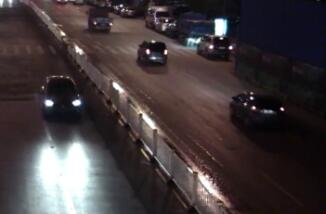car: (228, 86, 291, 131), (41, 72, 84, 119), (194, 32, 234, 60), (137, 39, 169, 66), (84, 3, 113, 31), (148, 7, 165, 27), (159, 13, 175, 33)
